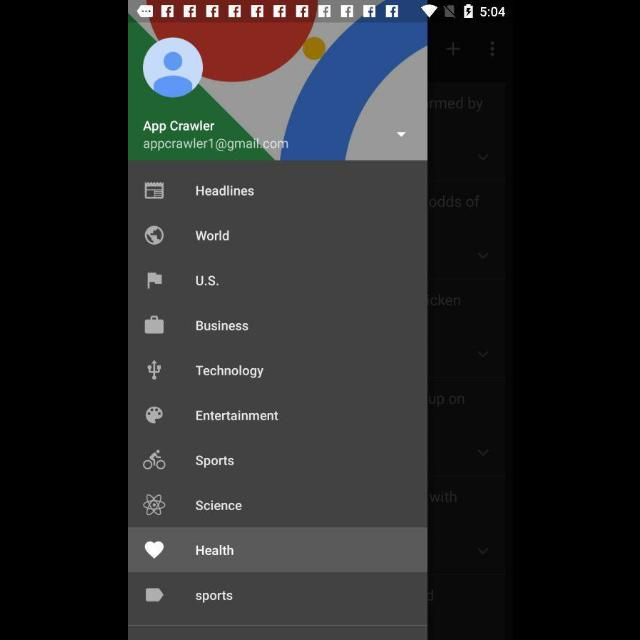icon: (142, 38, 204, 98), (144, 540, 164, 560), (144, 316, 164, 334), (144, 182, 164, 200), (144, 588, 164, 602), (396, 131, 406, 137)
image: (142, 494, 166, 516), (142, 449, 166, 471), (144, 226, 164, 246), (144, 406, 164, 424), (147, 359, 161, 381), (146, 272, 162, 290)
panel: (128, 20, 428, 640)
text: (142, 138, 288, 152), (143, 120, 215, 134), (195, 410, 278, 422), (194, 365, 264, 379), (194, 186, 253, 197), (194, 500, 242, 512), (196, 321, 248, 332), (194, 455, 233, 469), (194, 544, 233, 556), (194, 591, 232, 603), (195, 230, 229, 242), (195, 276, 219, 286)
uppertaskbar: (128, 1, 512, 19)
